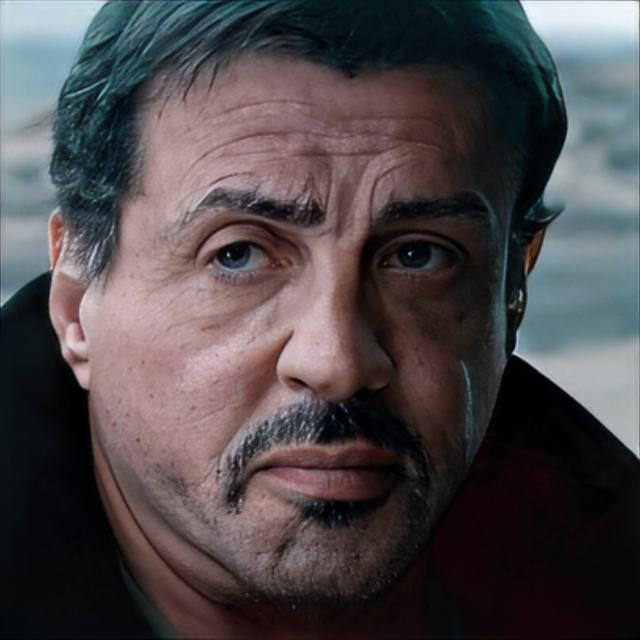sad: (104, 39, 512, 622)
